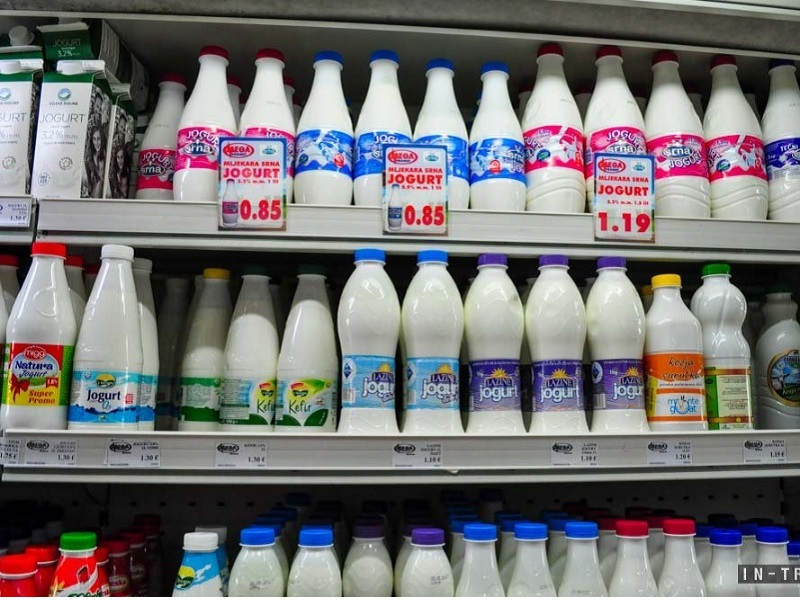milk: (517, 253, 599, 439), (8, 241, 83, 434), (586, 253, 661, 445), (73, 241, 145, 437), (401, 251, 471, 441), (462, 253, 530, 443), (706, 53, 777, 230), (275, 261, 346, 435), (339, 248, 402, 443), (166, 40, 238, 209), (693, 264, 761, 440), (647, 50, 713, 231), (224, 264, 291, 439), (524, 43, 591, 215), (647, 274, 717, 438), (291, 50, 360, 213), (469, 61, 531, 218)
